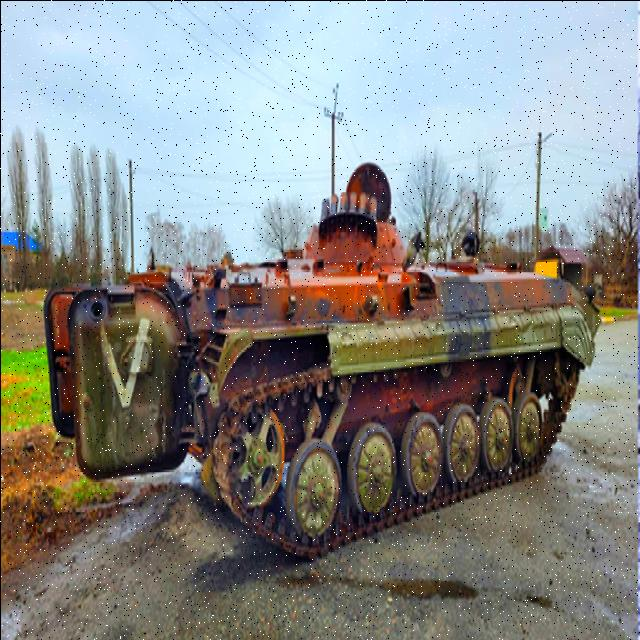APC-IFV: (45, 151, 606, 576)
